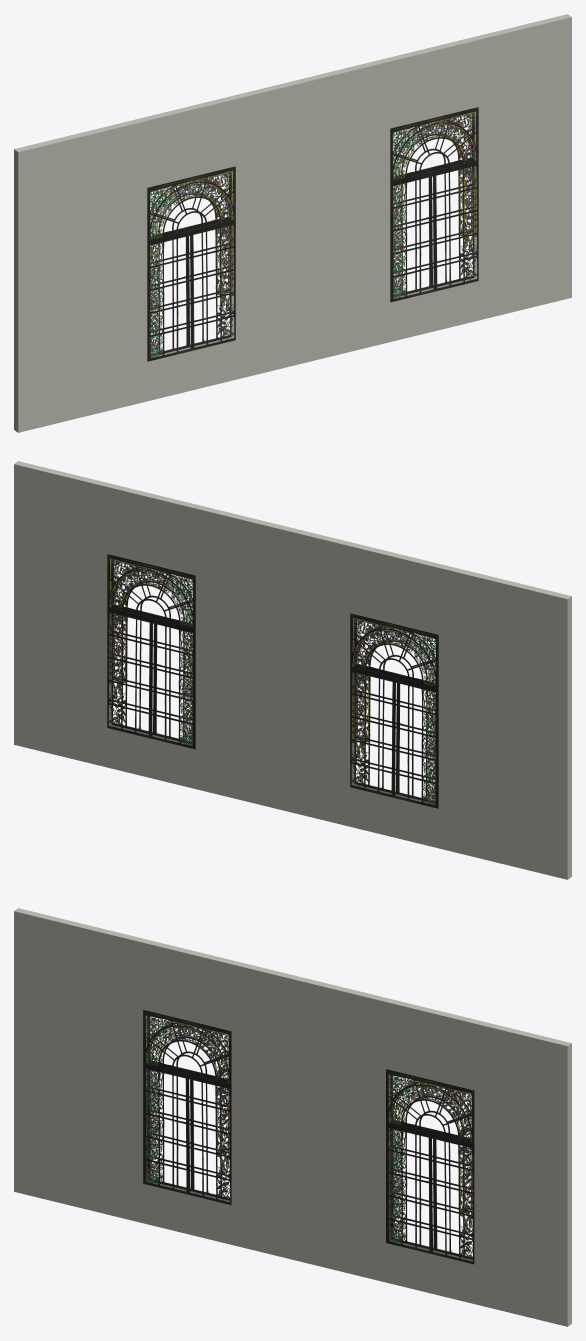
The model's file is B_axis_collider_2.glb.
3 views of the same model, one above another, from view 1: azimuth 30°, elevation 25°; view 2: azimuth 150°, elevation 25°; view 3: azimuth 330°, elevation 25° (orthographic).
Parts seen in each view (by area): view 1: B_x-axis_collider.2; view 2: B_x-axis_collider.2; view 3: B_x-axis_collider.2.
Boxes of the visible parts, x1,y1,x2,y2 form: B_x-axis_collider.2: (14, 14, 571, 432); B_x-axis_collider.2: (14, 461, 571, 879); B_x-axis_collider.2: (14, 908, 571, 1326).
Size of the model in its own units: 11.99 by 5.81 by 0.16.
1 material, 1 textured.
